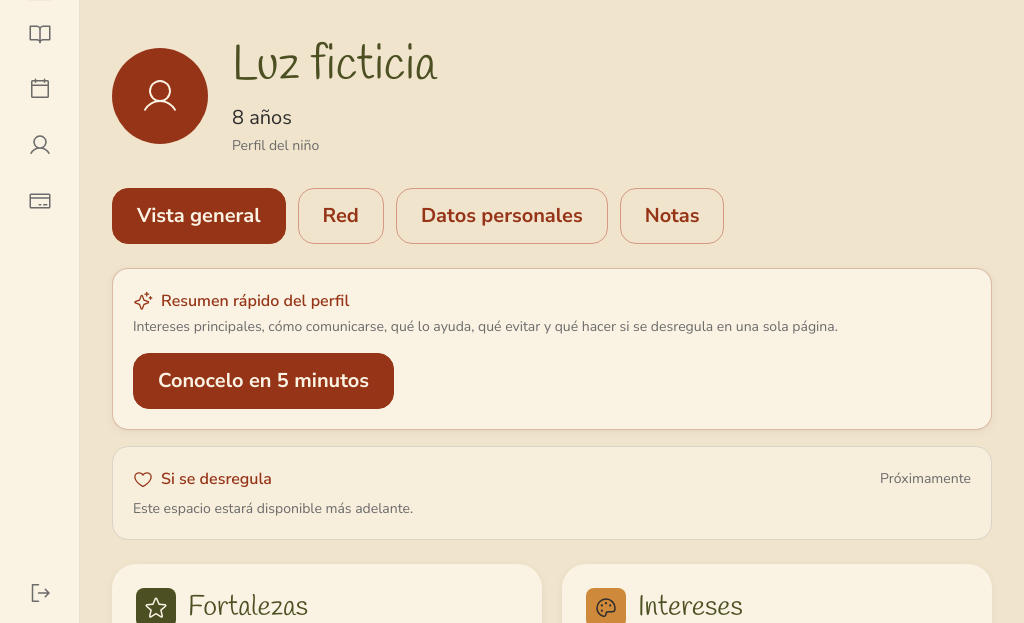
Test: Notas con fecha y hora › permite escribir una nota y muestra el instante devuelto por el servidor
Click the link "Notas": (672, 216) [620,188,724,244]
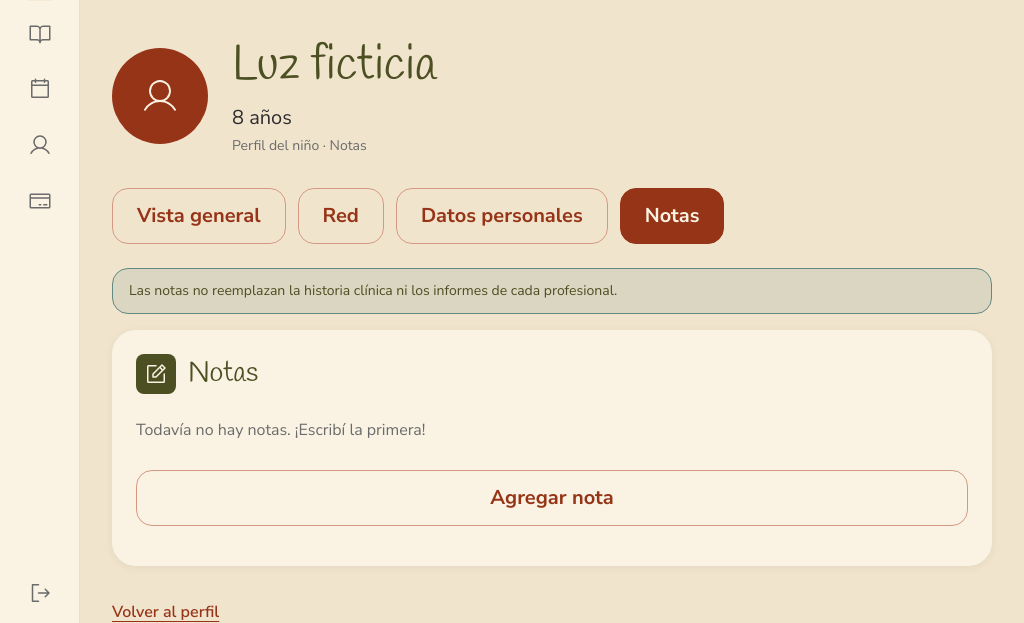
Check: the text "Todavía no hay notas. ¡Escribí la primera!" is shown, box [136,419,426,441]
Click the button "Agregar nota": (552, 498) [136,470,968,526]
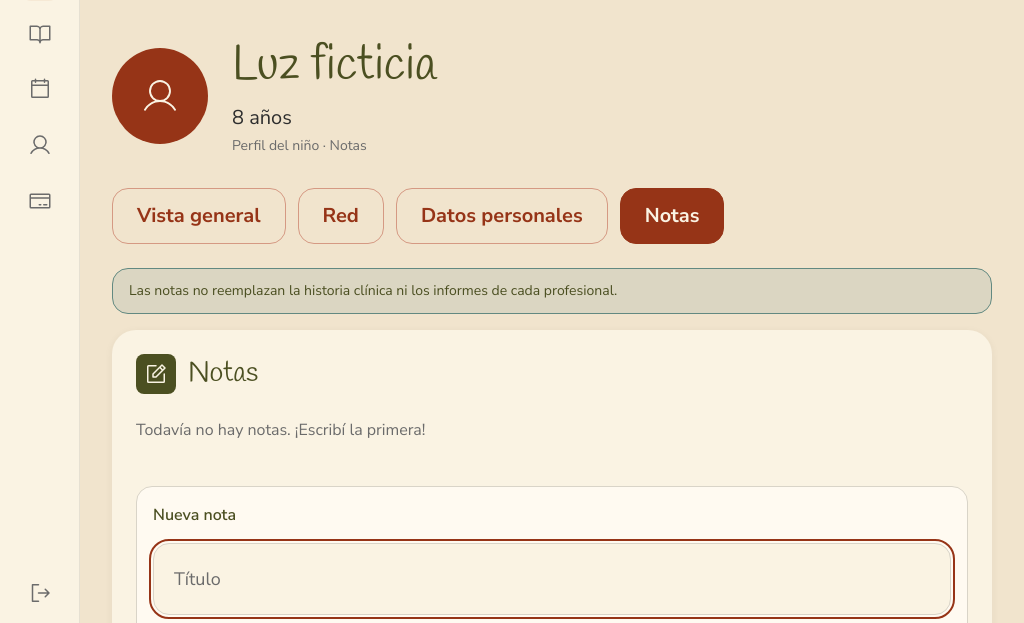
In the field labelled "Título": (552, 579) [153,543,951,615], type "Nota ficticia nueva"
(page scrolled)
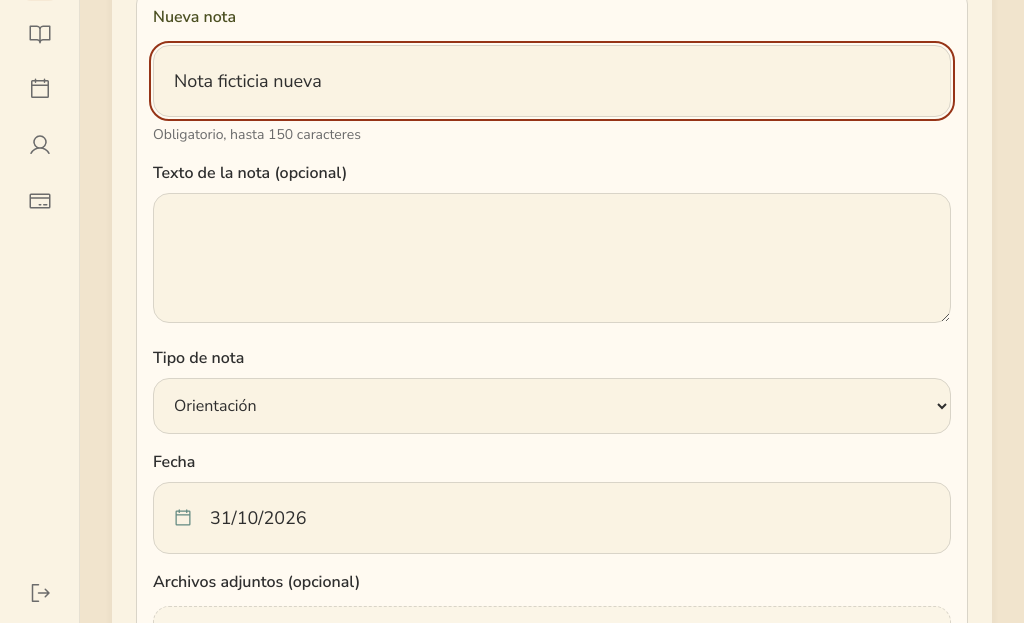
In the text box labelled "Texto de la nota (opcional)": (552, 258) [153,193,951,323], type "Texto ficticio nuevo"
(page scrolled)
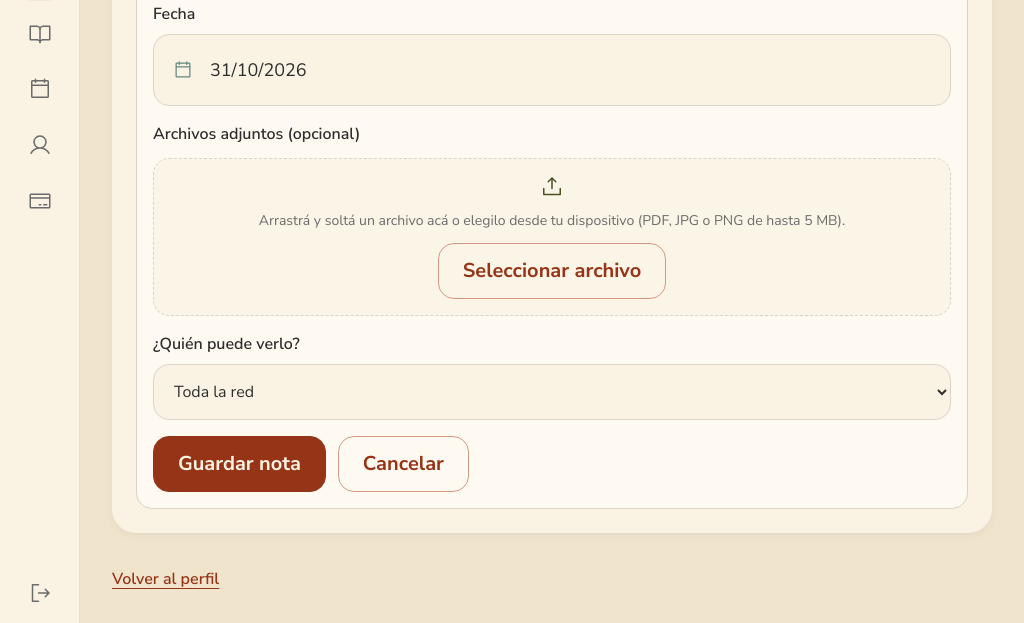
Click the button "Guardar nota": (239, 464) [153,436,326,492]
(page scrolled)
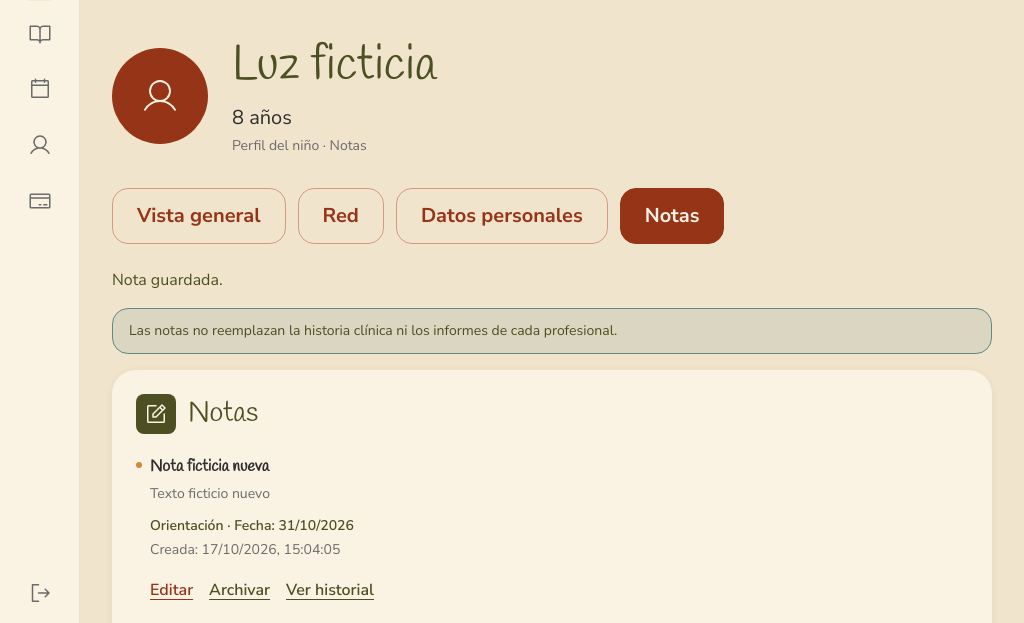
Check: the heading "Nota ficticia nueva" is shown, box [150,456,269,477]
Check: the text "17/10/2026, 15:04:05" is shown, box [202,540,340,559]
Check: the text "Creada: 17/10/2026, 15:04:05" is shown, box [150,540,340,559]
